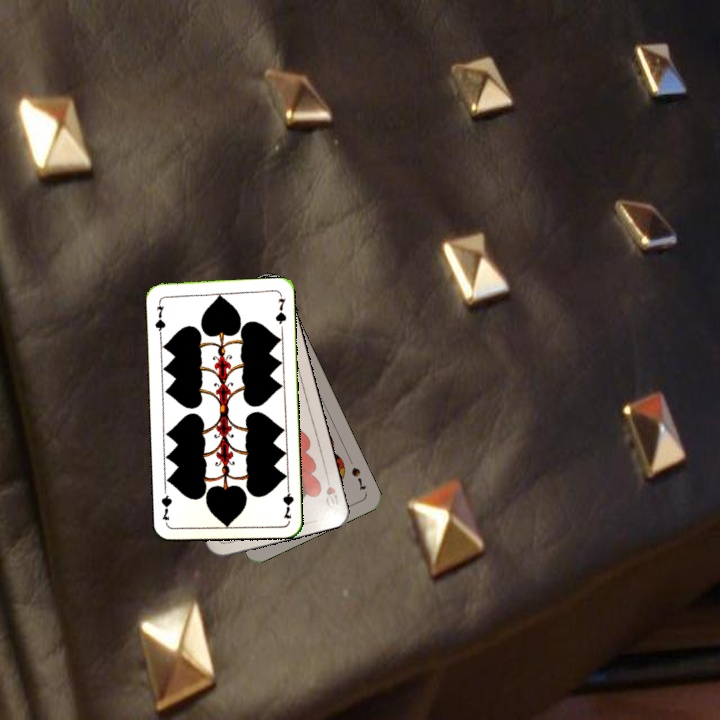G7: (279, 481, 296, 521), (151, 297, 168, 337)
H10: (321, 471, 343, 512)
S7: (347, 463, 369, 493)
